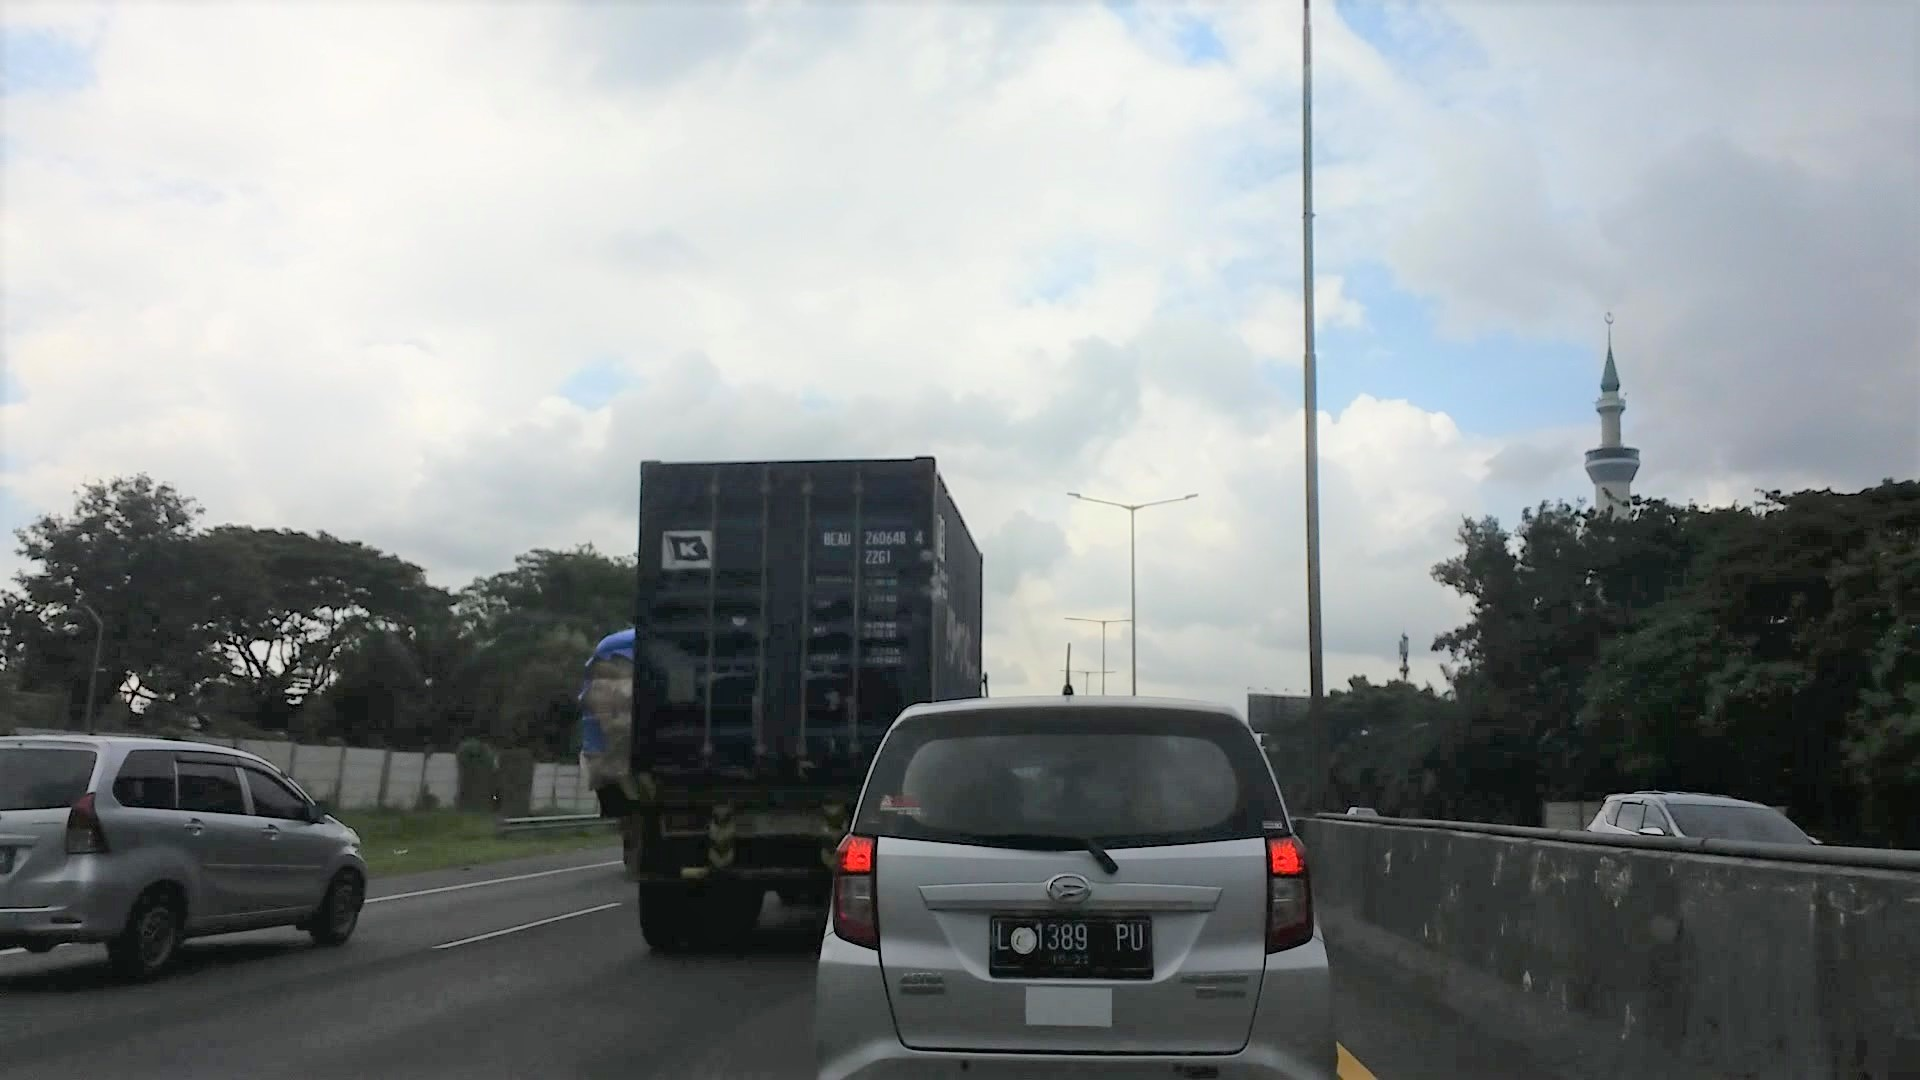plate_positive: (989, 913, 1154, 978)
